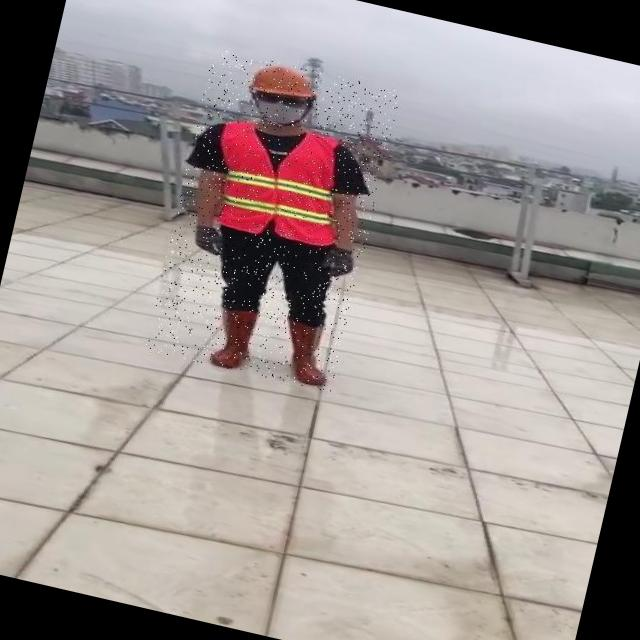hard_hat: (246, 58, 322, 104)
safety_vest: (202, 114, 354, 251)
vehicle: (144, 48, 401, 393)
work_boots: (272, 316, 344, 389), (206, 303, 266, 373)
